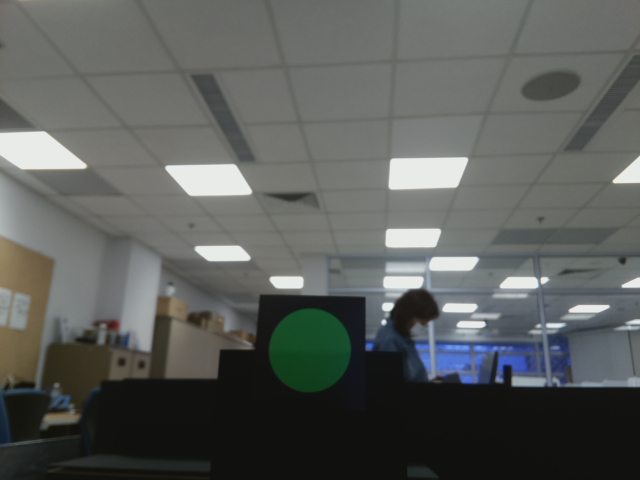go: (265, 307, 357, 393)
